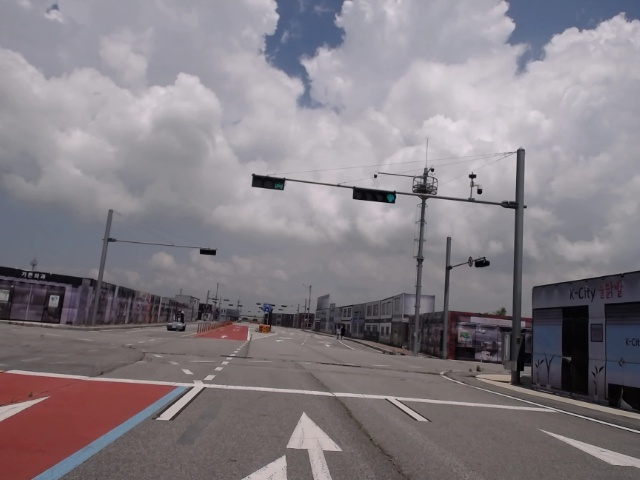straight_green_4: (353, 187, 396, 205)
